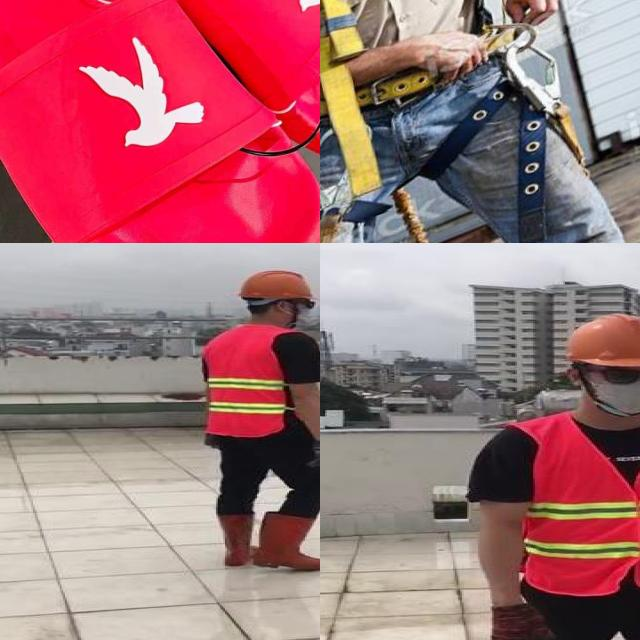Harness: (320, 0, 573, 208)
Sandals: (0, 0, 320, 243)
boots: (257, 513, 320, 571), (216, 511, 255, 567)
face_mask: (588, 361, 640, 414)
glasses: (592, 362, 640, 386)
hand_glove: (485, 604, 552, 640), (307, 438, 320, 469)
head_helmet: (557, 308, 640, 368), (232, 266, 318, 304)
person: (455, 314, 640, 640), (185, 265, 320, 572)
vest: (517, 415, 640, 595), (206, 324, 296, 436)
